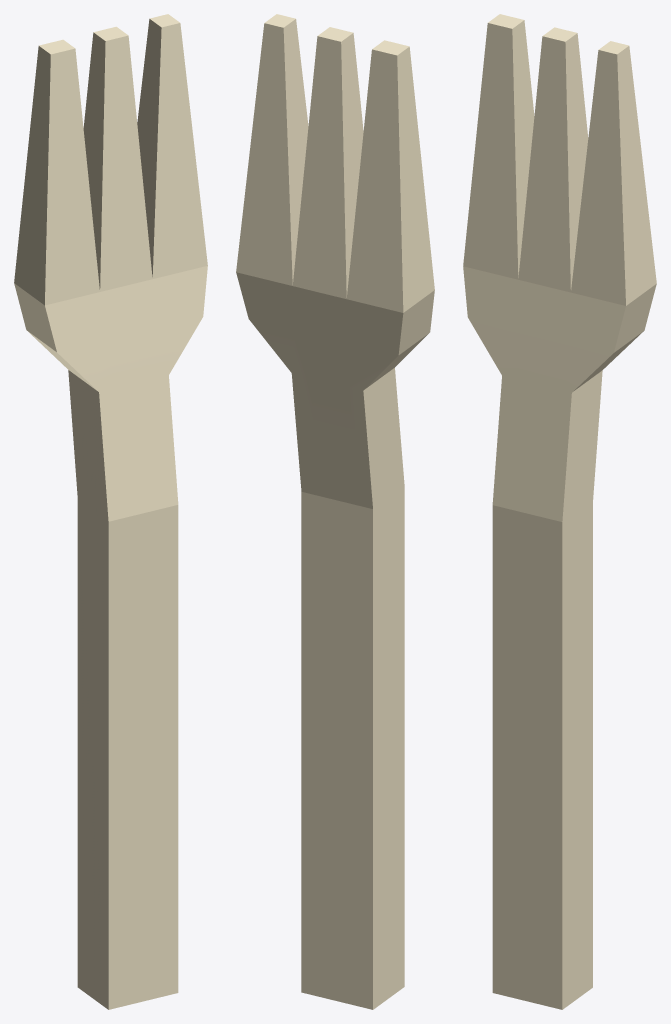
Rendered from fork.obj.
3 renders of one model, left to right at view 1: azimuth 30°, elevation 25°; view 2: azimuth 150°, elevation 25°; view 3: azimuth 330°, elevation 25°, orthographic. The views are drawn at different scales.
Visible parts, largest first — view 1: Cube.167_Cube.195_other_1; view 2: Cube.167_Cube.195_other_1; view 3: Cube.167_Cube.195_other_1.
Part boxes in pixels (x1,y1,x2,y2): Cube.167_Cube.195_other_1: [14, 14, 207, 1009]; Cube.167_Cube.195_other_1: [236, 14, 434, 1009]; Cube.167_Cube.195_other_1: [463, 14, 656, 1009].
Size of the model in its own units: 0.00509 by 0.0281 by 0.00259.
